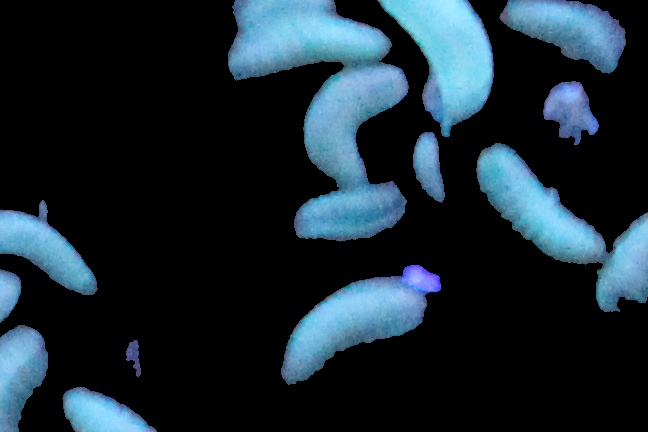larvae: (355, 1, 499, 126), (281, 276, 432, 388), (478, 145, 603, 260), (299, 62, 407, 185), (228, 15, 391, 84), (1, 208, 110, 297), (501, 1, 628, 76), (293, 185, 407, 239), (1, 328, 53, 432), (66, 387, 158, 432), (416, 133, 449, 208)
